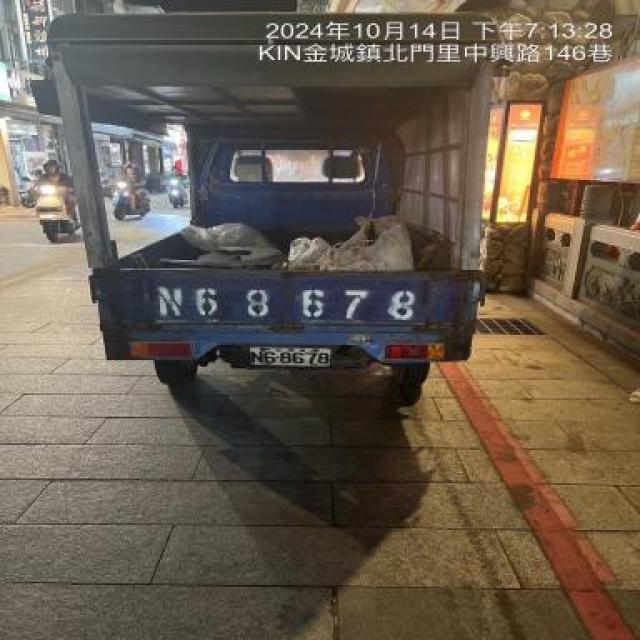illegalparking: (53, 8, 490, 400)
